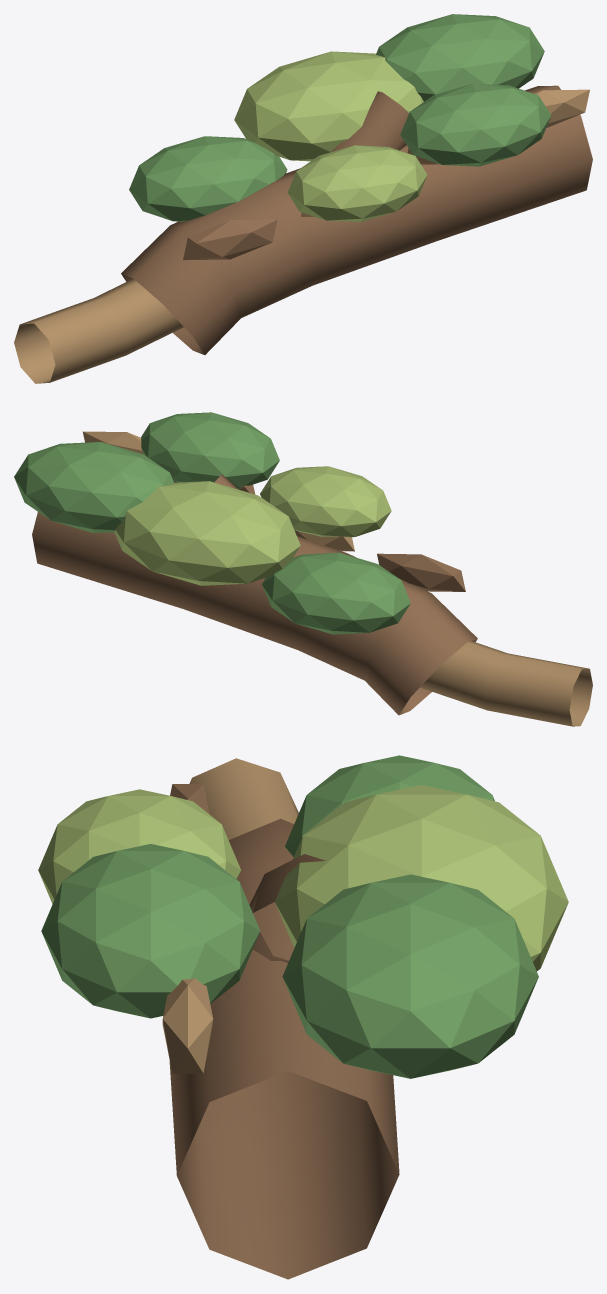
The model's file is mdl_env_old_tree_branch.glb.
3 renders of one model, top to bottom at view 1: azimuth 30°, elevation 25°; view 2: azimuth 150°, elevation 25°; view 3: azimuth 270°, elevation 25°, orthographic. The views are drawn at different scales.
Parts seen in each view (by area): view 1: Main branch, Canopy leaf cluster.001, Canopy leaf cluster.002, Root spur, Canopy leaf cluster.004, Canopy leaf cluster, Canopy leaf cluster.003, Bark ridge, Fork, Bark ridge.003; view 2: Main branch, Canopy leaf cluster.001, Canopy leaf cluster.002, Root spur, Canopy leaf cluster, Canopy leaf cluster.004, Canopy leaf cluster.003, Bark ridge, Bark ridge.003, Bark ridge.001; view 3: Main branch, Canopy leaf cluster.002, Canopy leaf cluster.004, Canopy leaf cluster.001, Canopy leaf cluster.003, Canopy leaf cluster, Root spur, Bark ridge.003, Fork.
Boxes of the visible parts, box(x1,y1,x2,y2) form: Main branch: box(121, 85, 592, 354); Canopy leaf cluster.001: box(234, 51, 423, 161); Canopy leaf cluster.002: box(376, 14, 544, 101); Root spur: box(14, 278, 183, 383); Canopy leaf cluster.004: box(400, 83, 551, 166); Canopy leaf cluster: box(129, 136, 287, 221); Canopy leaf cluster.003: box(287, 145, 427, 222); Bark ridge: box(183, 219, 277, 260); Fork: box(330, 91, 408, 152); Bark ridge.003: box(534, 89, 589, 127); Main branch: box(32, 512, 477, 715); Canopy leaf cluster.001: box(114, 481, 300, 585); Canopy leaf cluster.002: box(14, 442, 173, 533); Root spur: box(420, 641, 592, 726); Canopy leaf cluster: box(262, 552, 410, 634); Canopy leaf cluster.004: box(141, 412, 279, 488); Canopy leaf cluster.003: box(260, 466, 391, 537); Bark ridge: box(377, 553, 465, 591); Bark ridge.003: box(82, 431, 143, 454); Bark ridge.001: box(294, 530, 354, 551); Main branch: box(169, 818, 399, 1279); Canopy leaf cluster.002: box(282, 874, 538, 1078); Canopy leaf cluster.004: box(41, 844, 260, 1018); Canopy leaf cluster.001: box(275, 785, 568, 971); Canopy leaf cluster.003: box(38, 789, 241, 903); Canopy leaf cluster: box(285, 755, 494, 856); Root spur: box(189, 758, 298, 839); Bark ridge.003: box(162, 978, 213, 1073); Fork: box(249, 854, 325, 963).
Bounding box in the file's own units: 3.22 × 1.28 × 1.43.
